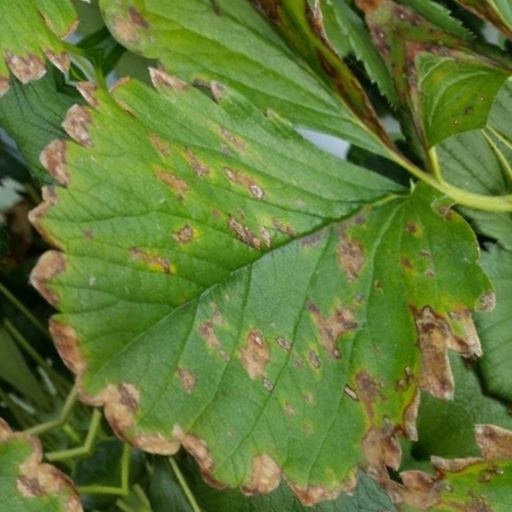Angular Leafspot: (73, 7, 486, 511), (34, 0, 215, 303), (0, 43, 70, 313)
